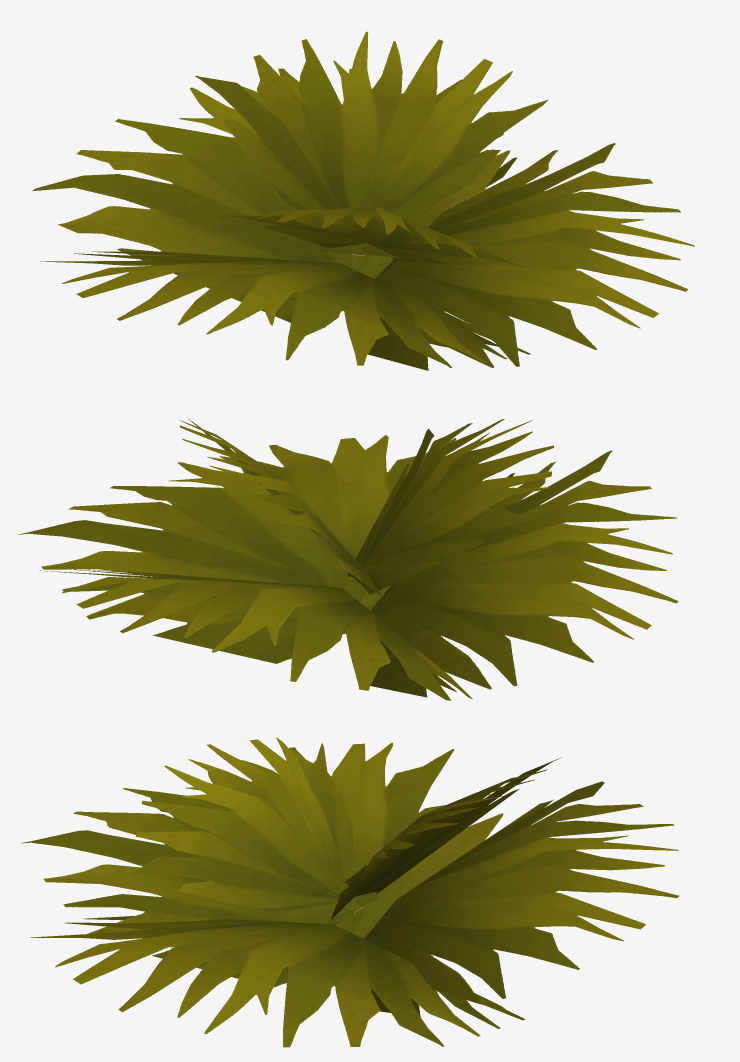
Rendered from Map10_CaoM_01.FBX.
3 renders of one model, top to bottom at view 1: azimuth 30°, elevation 25°; view 2: azimuth 150°, elevation 25°; view 3: azimuth 270°, elevation 25°, orthographic.
Parts seen in each view (by area): view 1: Map10_CaoM_01; view 2: Map10_CaoM_01; view 3: Map10_CaoM_01.
Part boxes in pixels (x1,y1,x2,y2): Map10_CaoM_01: [32, 31, 694, 370]; Map10_CaoM_01: [18, 418, 678, 700]; Map10_CaoM_01: [21, 737, 678, 1047].
Size of the model in its own units: 28.6 by 11.75 by 29.91.
